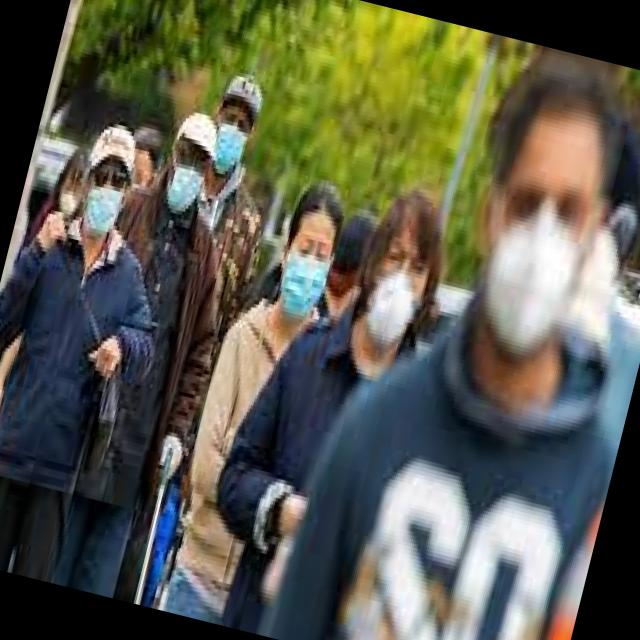Jacket: (186, 307, 438, 640), (48, 176, 245, 508), (0, 203, 174, 506), (156, 278, 329, 582)
